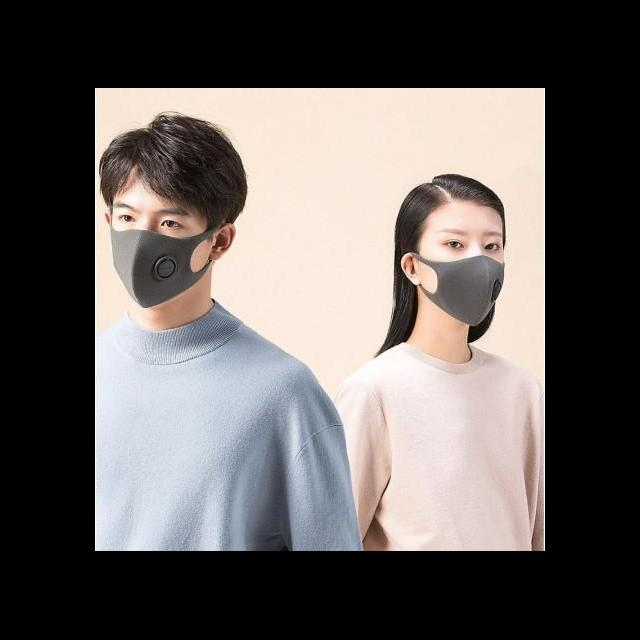Mask: (105, 218, 217, 309), (402, 252, 506, 328)
NO-Hardhat: (109, 116, 243, 206), (395, 168, 506, 225)
NO-Safety Vest: (95, 326, 280, 552), (366, 354, 526, 552)
Person: (95, 111, 362, 552), (330, 168, 545, 552)
